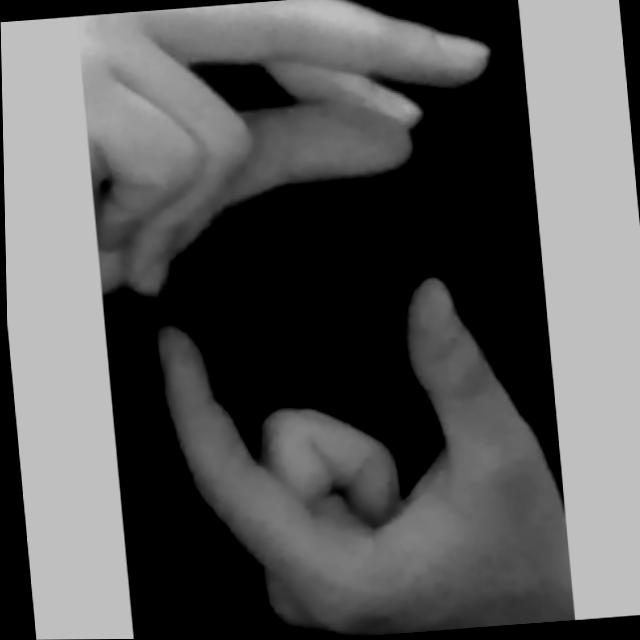U--: (78, 0, 576, 639)
